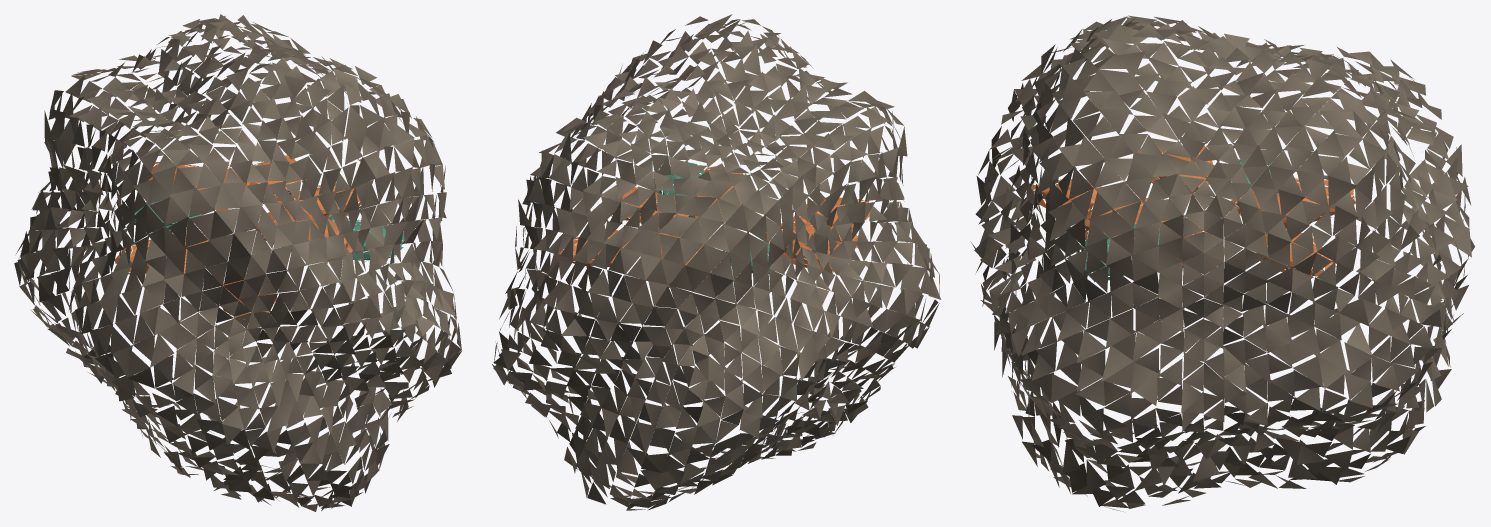
Rendered from standard-lod0.glb.
3 renders of one model, left to right at view 1: azimuth 30°, elevation 25°; view 2: azimuth 150°, elevation 25°; view 3: azimuth 270°, elevation 25°, orthographic. The views are drawn at different scales.
Visible parts, largest first — view 1: copper-host-rock, copper-mineral-seams; view 2: copper-host-rock, copper-mineral-seams; view 3: copper-host-rock, copper-mineral-seams.
Part boxes in pixels (left/top/right/bottom): copper-host-rock: left=14, top=14, right=462, bottom=511; copper-mineral-seams: left=114, top=155, right=404, bottom=319; copper-host-rock: left=492, top=14, right=940, bottom=510; copper-mineral-seams: left=559, top=161, right=870, bottom=287; copper-host-rock: left=970, top=15, right=1474, bottom=511; copper-mineral-seams: left=1031, top=145, right=1355, bottom=282.
Bounding box in the file's own units: 2.2 × 2.69 × 2.63.
